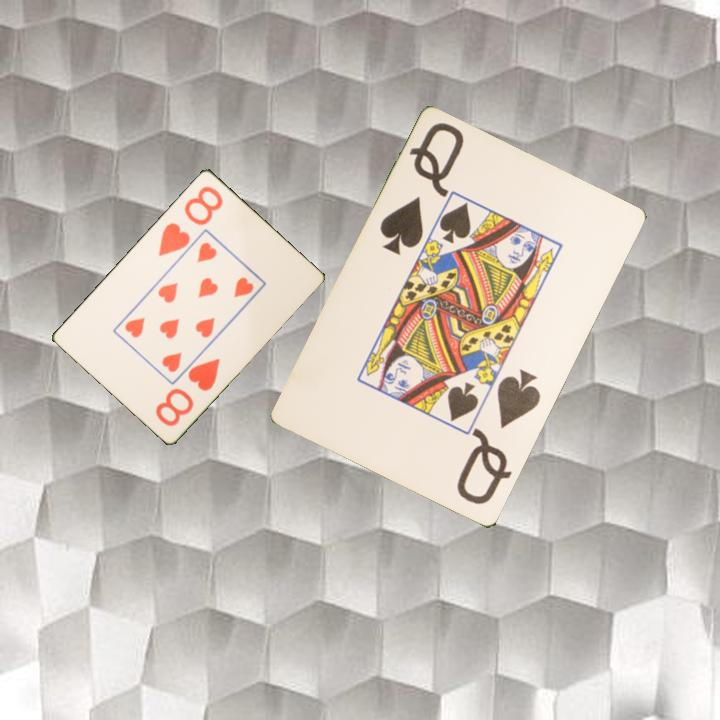8h: (154, 182, 226, 259), (152, 354, 223, 429)
Qs: (453, 367, 544, 508), (376, 119, 467, 259)
